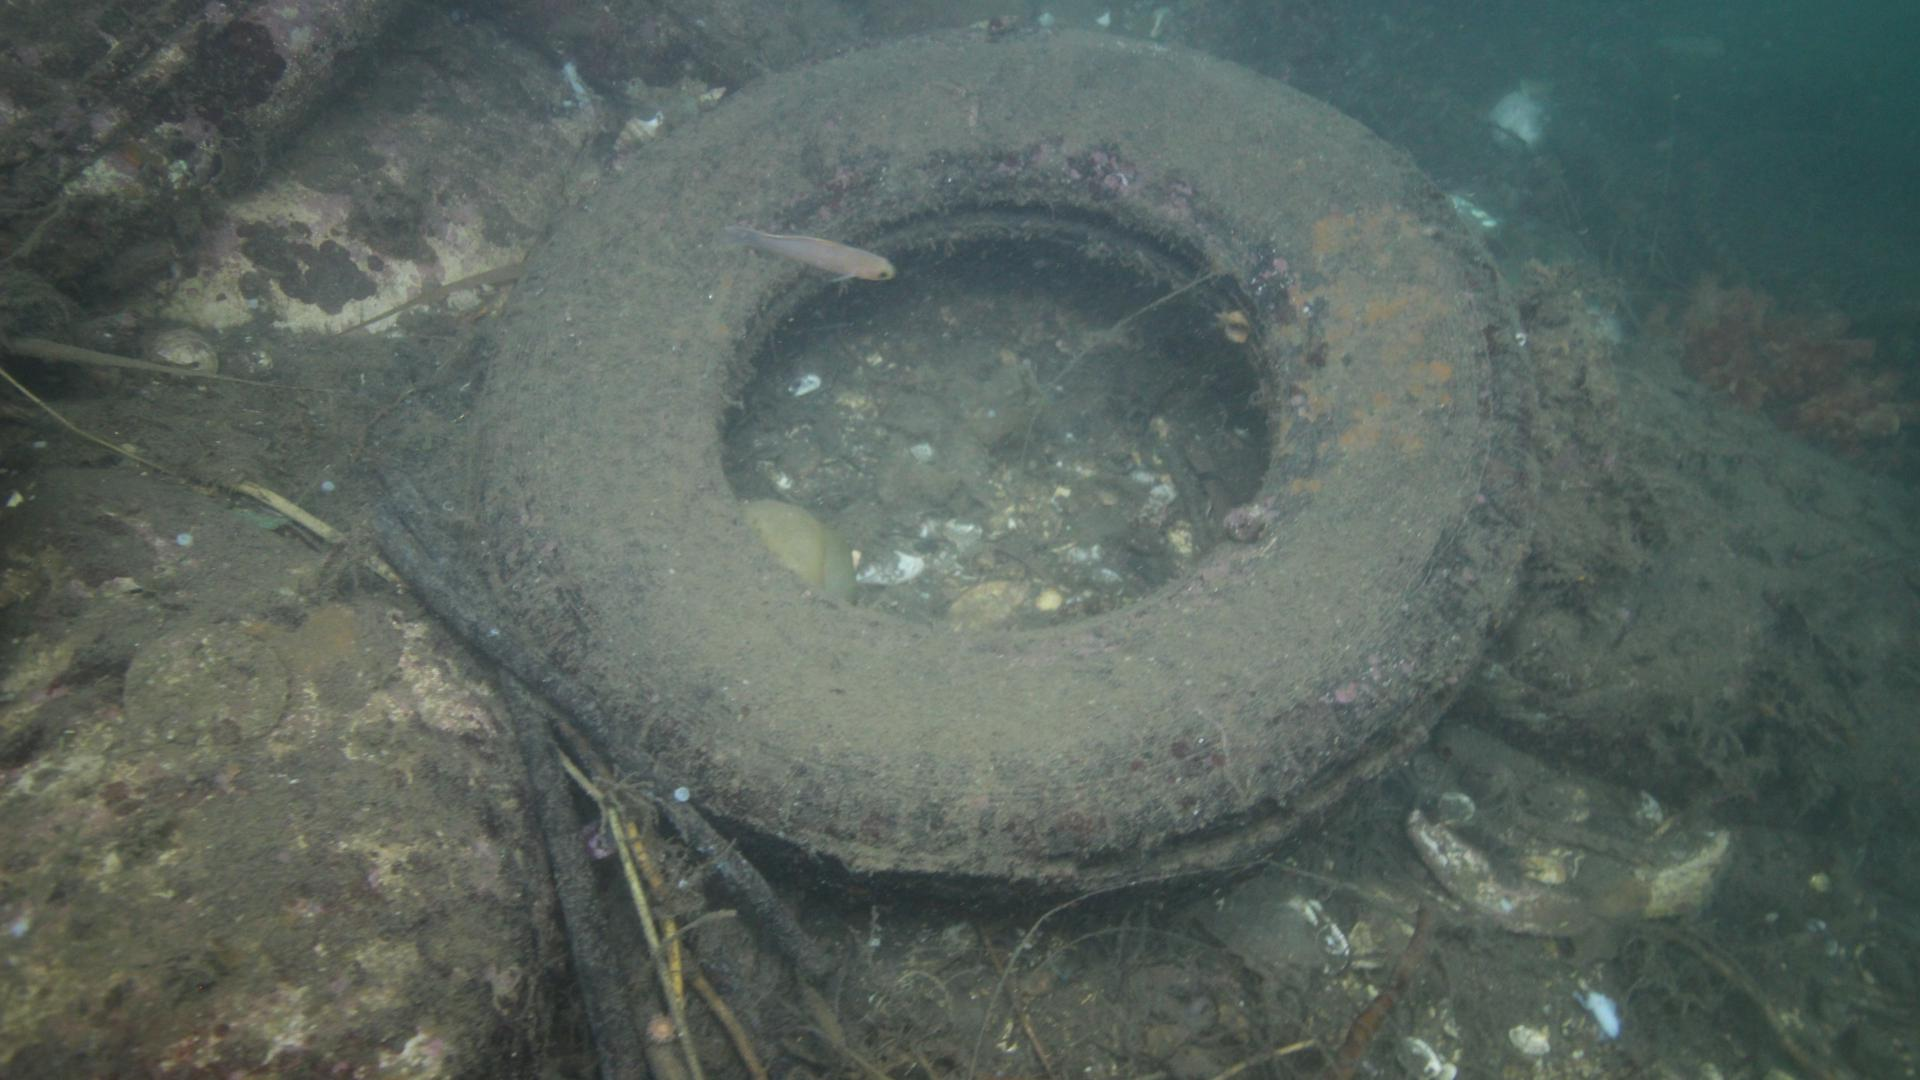tire: (462, 24, 1545, 924)
